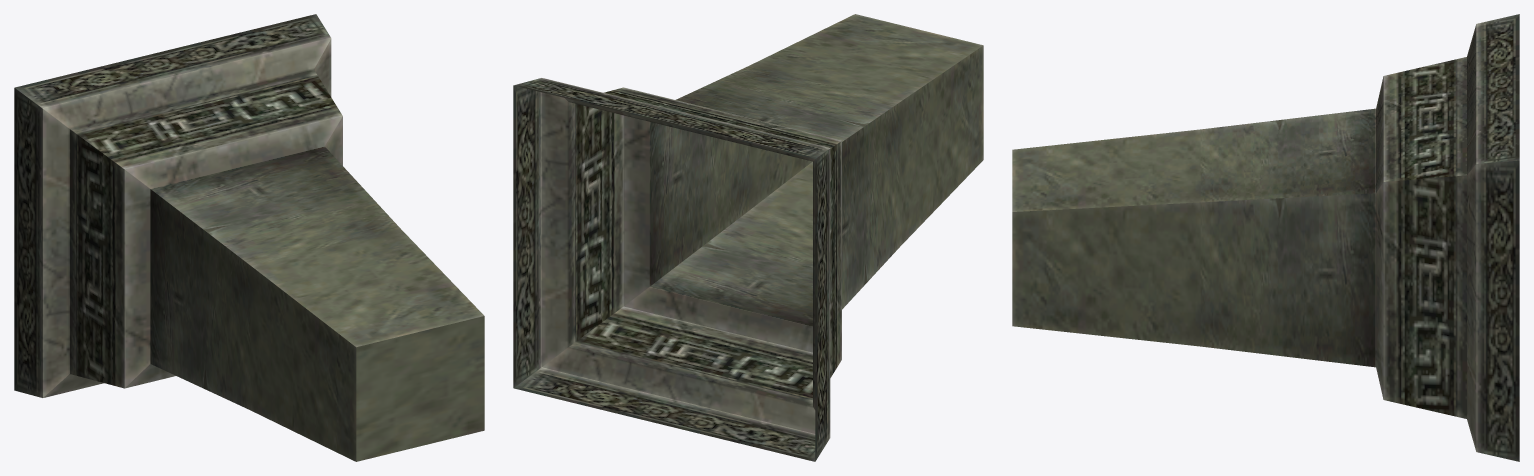
Rendered from world_fangshibei.obj.
The picture shows the model from 3 angles, left to right: view 1: azimuth 30°, elevation 25°; view 2: azimuth 150°, elevation 25°; view 3: azimuth 270°, elevation 25°; orthographic projection.
Visible parts, largest first — view 1: World_fangshibei; view 2: World_fangshibei; view 3: World_fangshibei.
Boxes of the visible parts, <box> form: World_fangshibei: <box>14,14,484,461</box>; World_fangshibei: <box>513,14,983,461</box>; World_fangshibei: <box>1012,14,1519,461</box>.
Bounding box in the file's own units: 57.25 × 54.88 × 83.78.
Materials: 1 (1 with a texture image).
